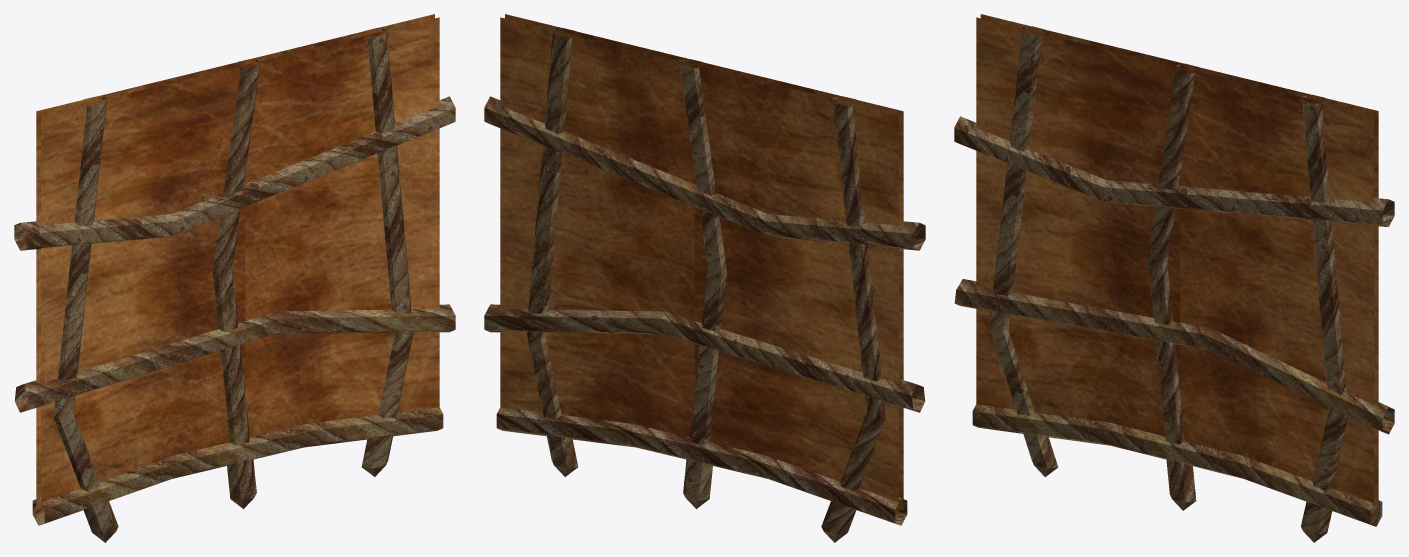
Rendered from door_dath_nightsister_s01.fbx.
The picture shows the model from 3 angles, left to right: view 1: azimuth 30°, elevation 25°; view 2: azimuth 150°, elevation 25°; view 3: azimuth 330°, elevation 25°; orthographic projection.
Visible parts, largest first — view 1: mesh_node; view 2: mesh_node; view 3: mesh_node.
Boxes of the visible parts, x1,y1,x2,y2 form: mesh_node: (14, 14, 455, 542); mesh_node: (484, 14, 925, 542); mesh_node: (954, 14, 1394, 542).
Bounding box in the file's own units: 5.2 × 5.16 × 0.2511.
